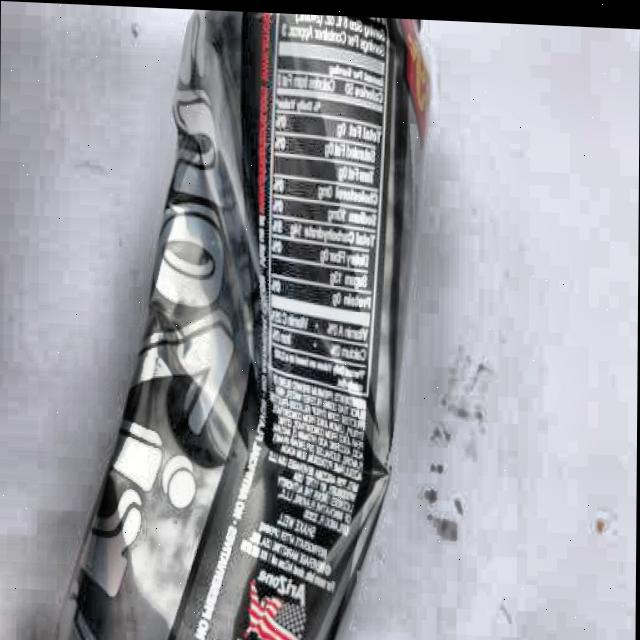metal: (49, 2, 435, 640)
